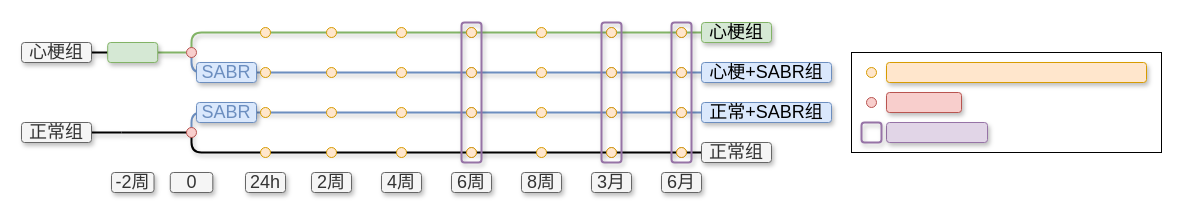
This 1179x217 diagram has some shape labels left out. The shapes that lost their labels are listed below. From the top down, each one's centre as x and y in pixels, then its label:
At pixel 133 54: "造模".
At pixel 1017 74: "血清学、影像学、电生理学检查".
At pixel 925 104: "基线检测".
At pixel 938 134: "病理学检查".
